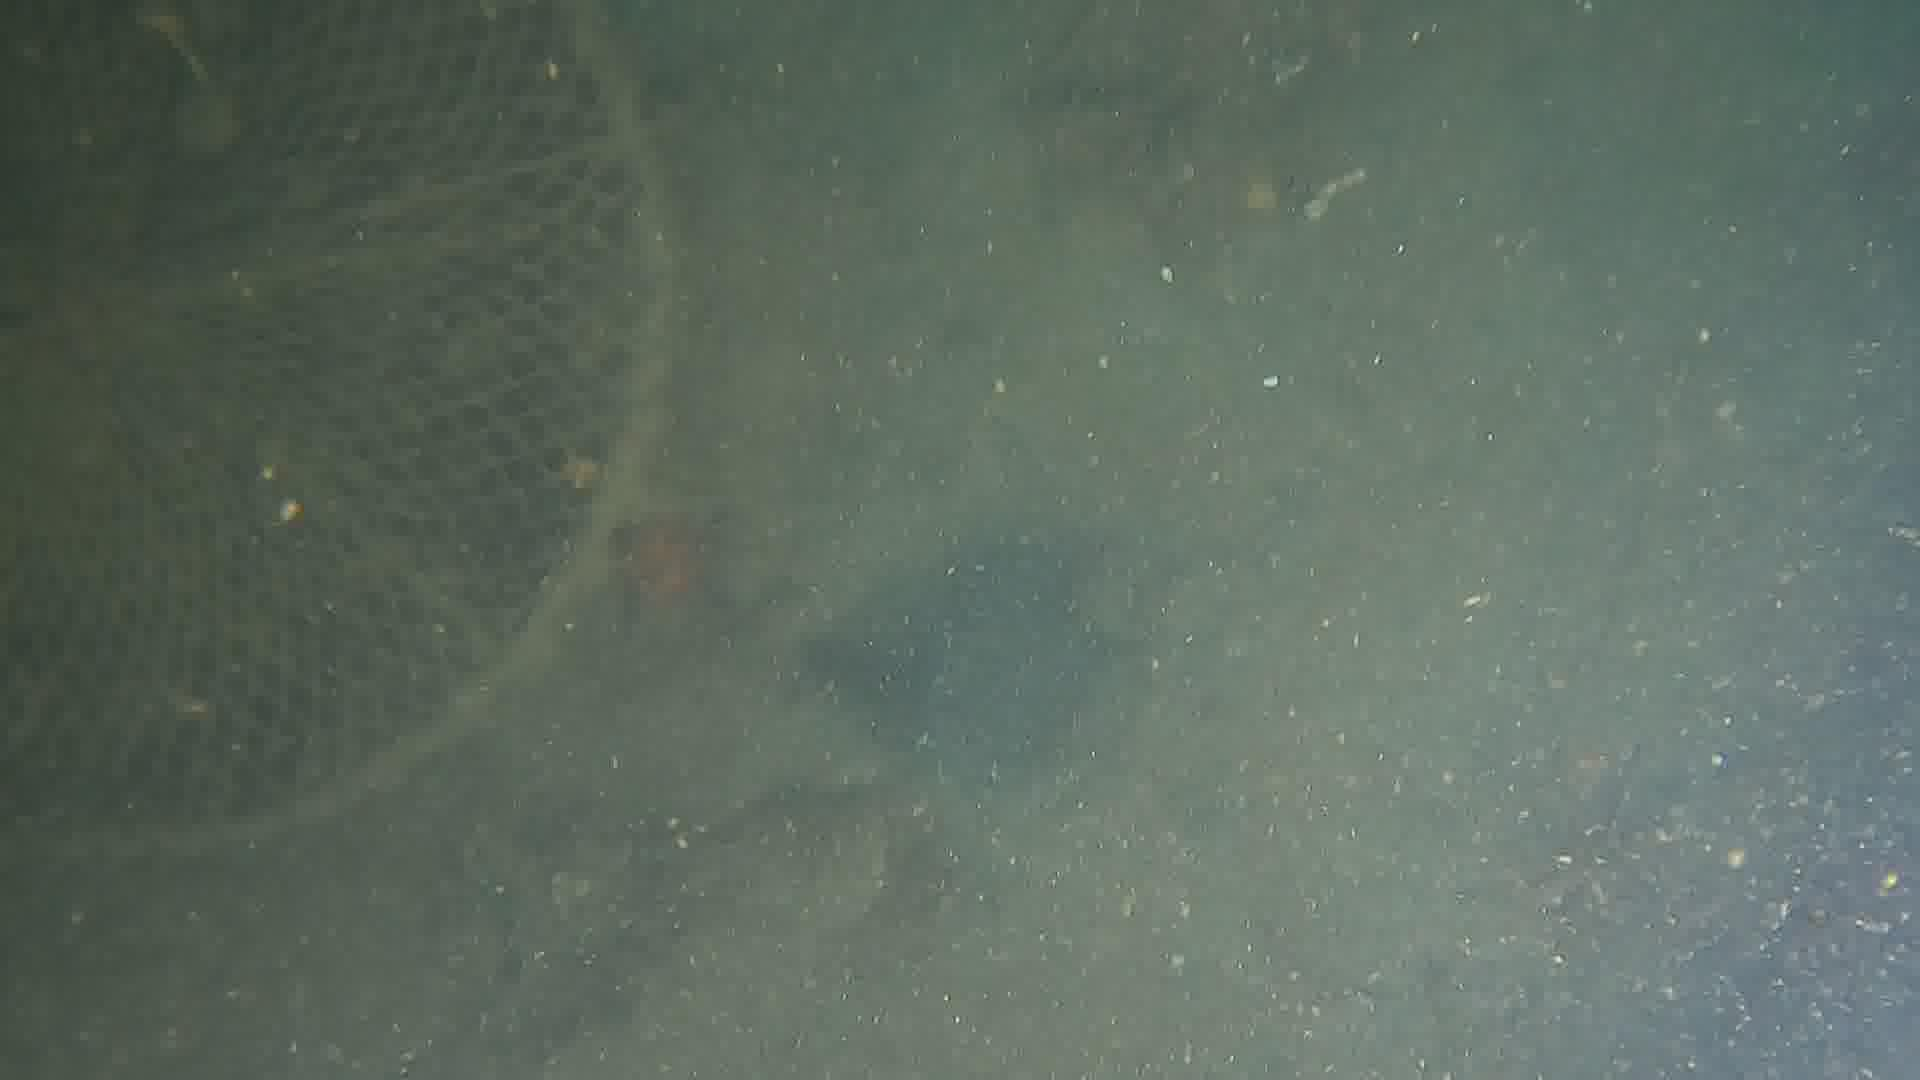circular fish trap: (0, 0, 675, 855)
